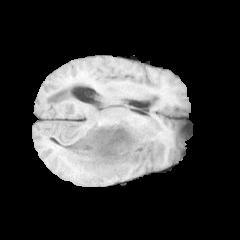glioma: (58, 122, 153, 182)
